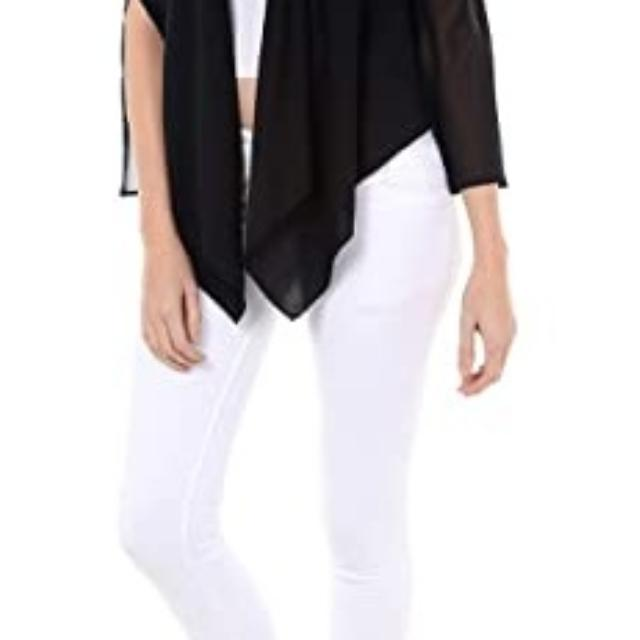polyester: (117, 0, 457, 640)
